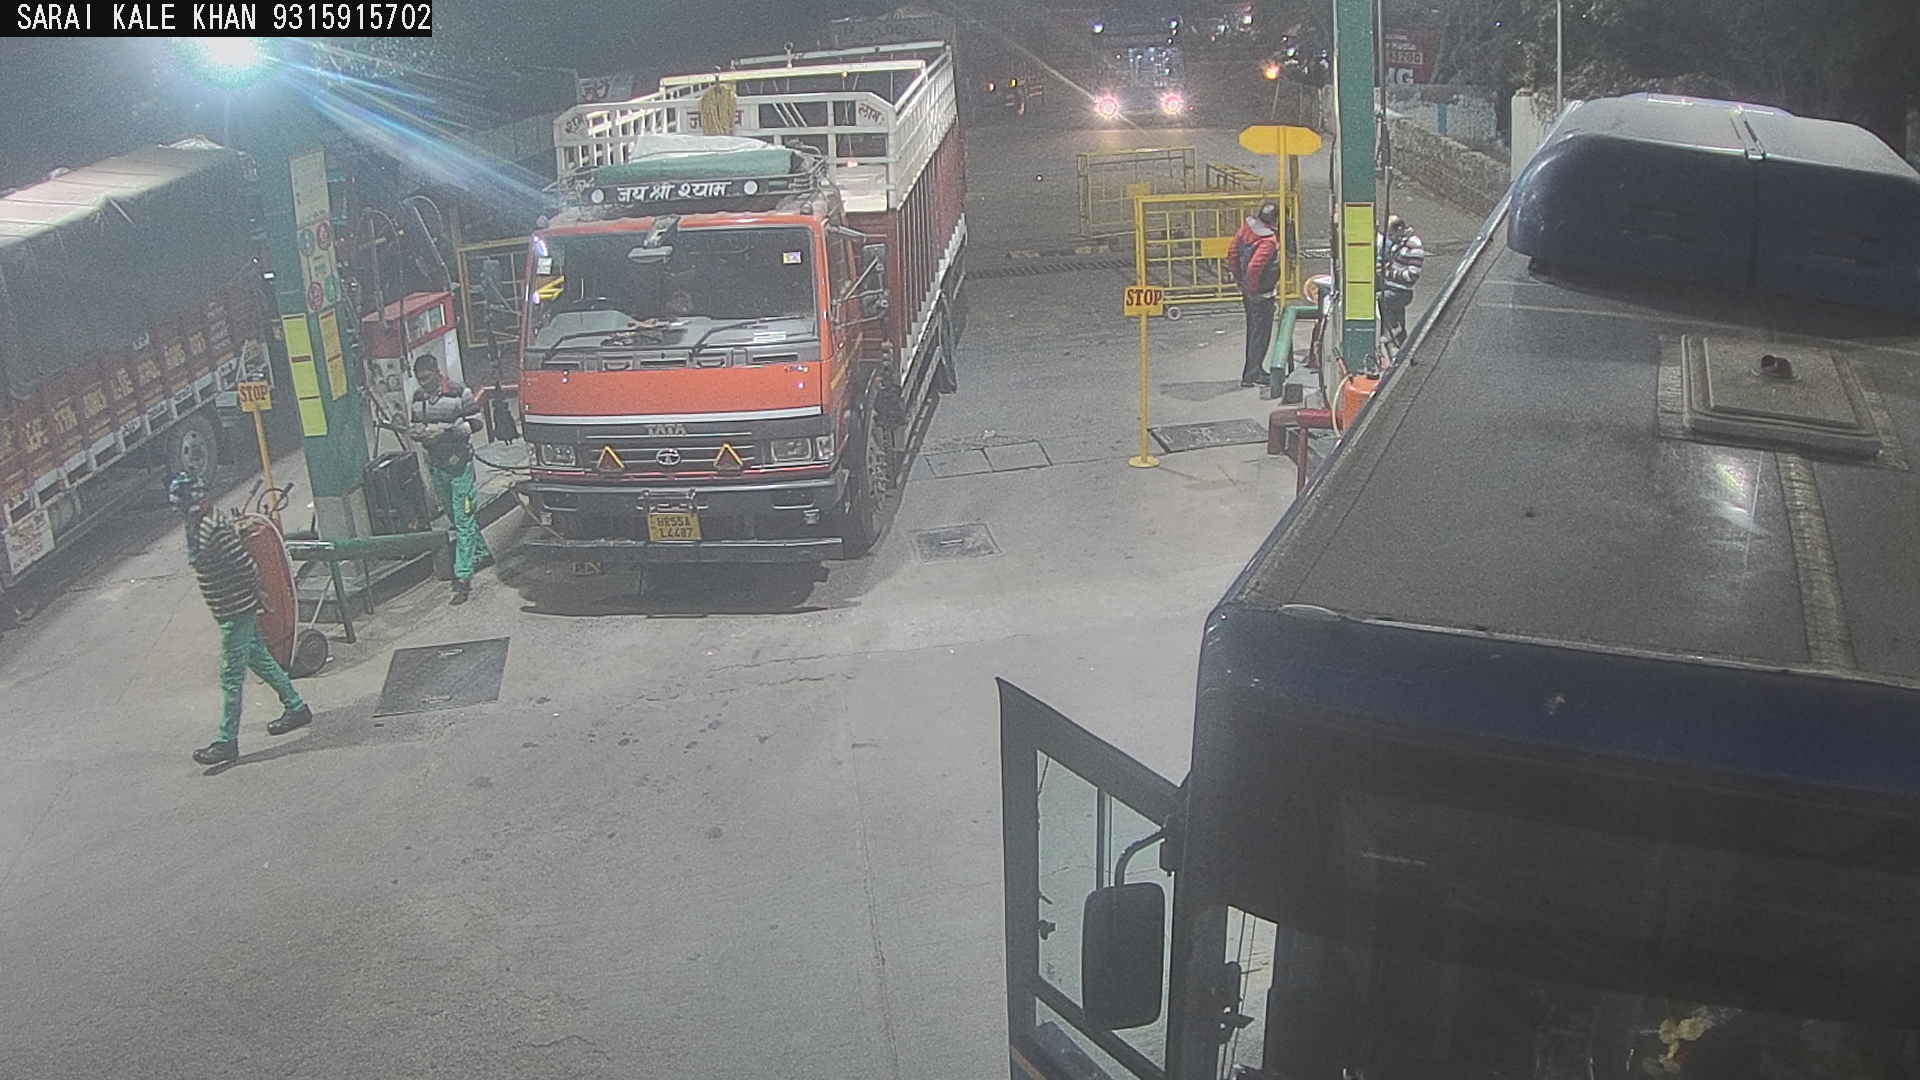HMV: (965, 69, 1917, 1076), (456, 0, 996, 600), (1, 99, 315, 676), (295, 18, 617, 361), (1071, 0, 1331, 140), (804, 1, 1075, 128), (571, 22, 810, 125)
Others: (161, 460, 316, 777), (406, 324, 506, 620)
Others Other: (1116, 278, 1179, 477), (237, 378, 298, 556)
